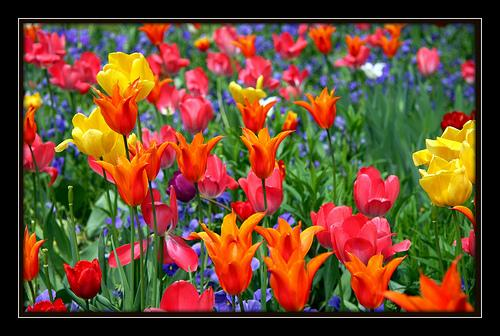tulip: (199, 208, 267, 293), (262, 246, 335, 309), (344, 249, 408, 307), (88, 77, 144, 132), (95, 151, 152, 205), (240, 124, 293, 178), (418, 155, 473, 206), (170, 129, 227, 178), (98, 51, 154, 98), (70, 107, 120, 153), (355, 165, 399, 216), (295, 84, 340, 129), (63, 258, 103, 298)
